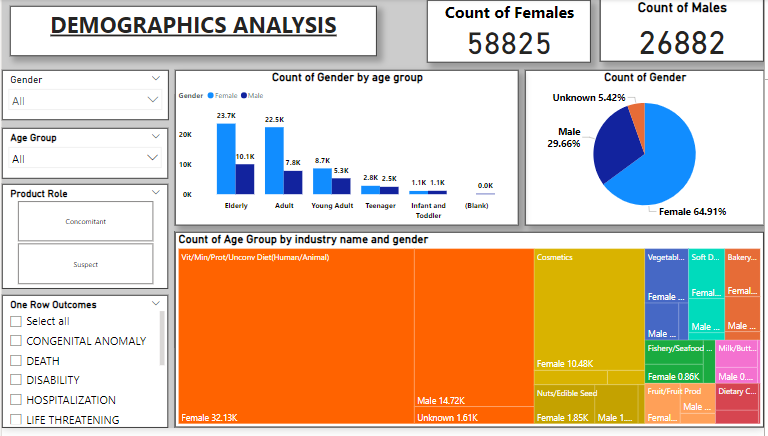

What the dashboard file says about the page in this screenshot:
{"tool":"powerbi","page":{"name":"Demographics analysis","canvas":[1280,720],"ordinal":14},"visuals":[{"type":"card","title":"Count of Females","fields":{"Values":["CountNonNull(CAERS_ASCII_2004_2017Q2.CI_Gender)"]},"box":[714.2,1.4,275,105.1],"z":0},{"type":"textbox","box":[12.8,11.4,616.5,84.2],"z":1000},{"type":"card","title":"Count of Males","fields":{"Values":["CountNonNull(CAERS_ASCII_2004_2017Q2.CI_Gender)"]},"box":[1005.1,0,275,105.1],"z":2000},{"type":"pieChart","title":"Count of Gender ","fields":{"Category":["CAERS_ASCII_2004_2017Q2.CI_Gender"],"Y":["CountNonNull(CAERS_ASCII_2004_2017Q2.CI_Gender)"]},"box":[878.4,119.5,401.8,260.6],"z":3000},{"type":"clusteredColumnChart","title":"Count of Gender by age group","fields":{"Category":["CAERS_ASCII_2004_2017Q2.Age Group"],"Y":["CountNonNull(CAERS_ASCII_2004_2017Q2.CI_Gender)"],"Series":["CAERS_ASCII_2004_2017Q2.CI_Gender"]},"box":[290.9,119.5,577.4,260.6],"z":4000},{"type":"slicer","fields":{"Values":["CAERS_ASCII_2004_2017Q2.CI_Gender"]},"box":[0,119.9,279.7,84.2],"z":5000},{"type":"slicer","fields":{"Values":["CAERS_ASCII_2004_2017Q2.Age Group"]},"box":[0,216,279.4,85],"z":6000},{"type":"treemap","title":"Count of Age Group by  industry name and gender","fields":{"Values":["CountNonNull(CAERS_ASCII_2004_2017Q2.Age Group)"],"Group":["CAERS_ASCII_2004_2017Q2.PRI_FDA Industry Name"],"Details":["CAERS_ASCII_2004_2017Q2.CI_Gender"]},"box":[290.9,391.7,989.3,328.3],"z":7000},{"type":"slicer","fields":{"Values":["CAERS_ASCII_2004_2017Q2.PRI_Product Role"]},"box":[0,311,279.4,175.7],"z":8000},{"type":"slicer","fields":{"Values":["CAERS_ASCII_2004_2017Q2.AEC_One Row Outcomes.1"]},"box":[0,496.8,279.4,223.2],"z":9000}]}

Visuals, with their boxes in screenshot pixels (x1, y1, x2, y2), scaled from the page's 1280x720 canvas onto the 768x436 screenshot:
"Count of Females" card: x1=429 y1=1 x2=594 y2=64
textbox: x1=8 y1=7 x2=378 y2=58
"Count of Males" card: x1=603 y1=0 x2=767 y2=64
"Count of Gender " pieChart: x1=527 y1=72 x2=767 y2=230
"Count of Gender by age group" clusteredColumnChart: x1=175 y1=72 x2=521 y2=230
slicer - CAERS_ASCII_2004_2017Q2.CI_Gender: x1=0 y1=73 x2=168 y2=124
slicer - CAERS_ASCII_2004_2017Q2.Age Group: x1=0 y1=131 x2=168 y2=182
"Count of Age Group by  industry name and gender" treemap: x1=175 y1=237 x2=767 y2=435
slicer - CAERS_ASCII_2004_2017Q2.PRI_Product Role: x1=0 y1=188 x2=168 y2=295
slicer - CAERS_ASCII_2004_2017Q2.AEC_One Row Outcomes.1: x1=0 y1=301 x2=168 y2=435
